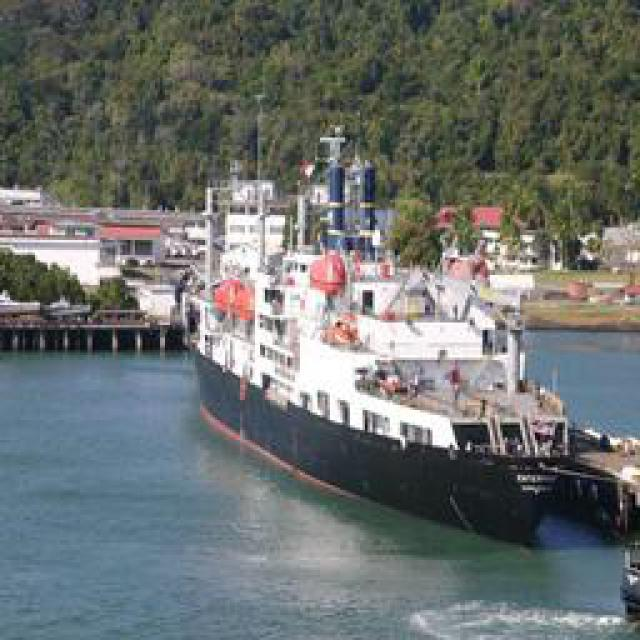Ship: (186, 166, 621, 534)
